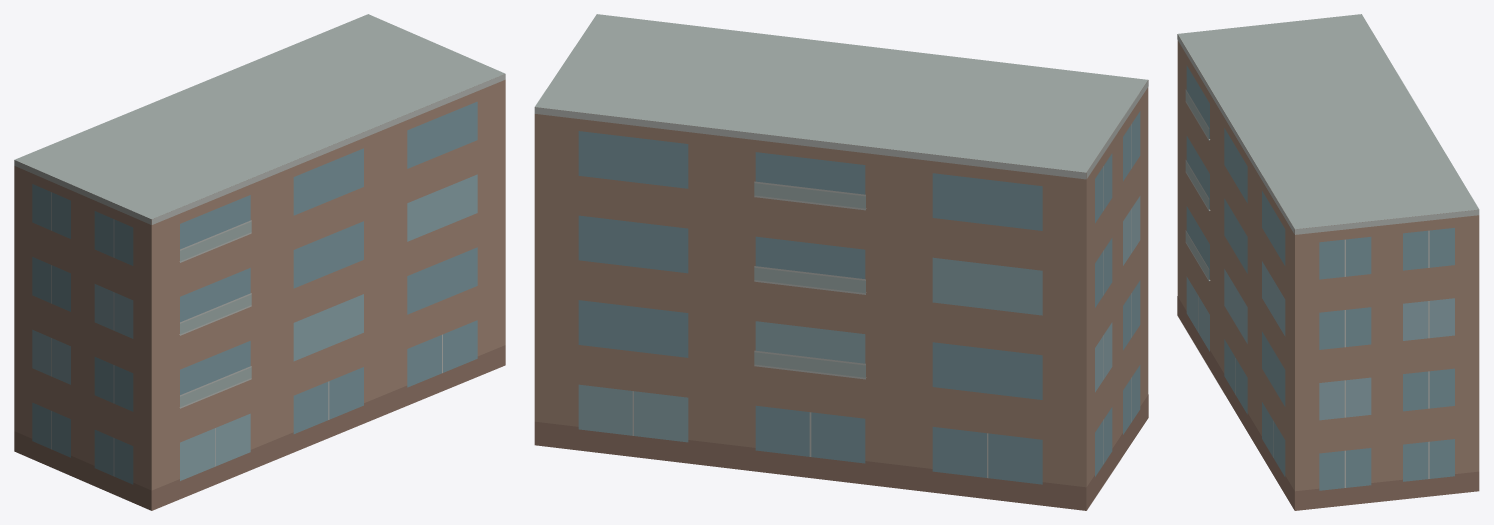
File: residential-4e823147-ddb5-48e4-8ff5-8f691282790a.glb
The picture shows the model from 3 angles, left to right: view 1: azimuth 30°, elevation 25°; view 2: azimuth 150°, elevation 25°; view 3: azimuth 270°, elevation 25°; orthographic projection. The views are drawn at different scales.
Visible parts, largest first — view 1: residential-4e823147-ddb5-48e4-8ff5-8f691282790a.tmp; view 2: residential-4e823147-ddb5-48e4-8ff5-8f691282790a.tmp; view 3: residential-4e823147-ddb5-48e4-8ff5-8f691282790a.tmp.
Boxes of the visible parts, x1=… form: residential-4e823147-ddb5-48e4-8ff5-8f691282790a.tmp: x1=14, y1=14, x2=505, y2=510; residential-4e823147-ddb5-48e4-8ff5-8f691282790a.tmp: x1=534, y1=14, x2=1148, y2=510; residential-4e823147-ddb5-48e4-8ff5-8f691282790a.tmp: x1=1177, y1=14, x2=1479, y2=510.
Size of the model in its own units: 20.02 by 12.2 by 11.87.
